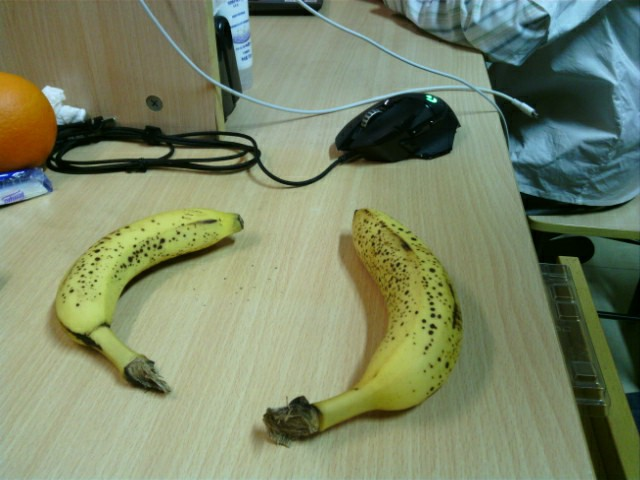normal_banana: (262, 208, 461, 450), (55, 208, 244, 395)
